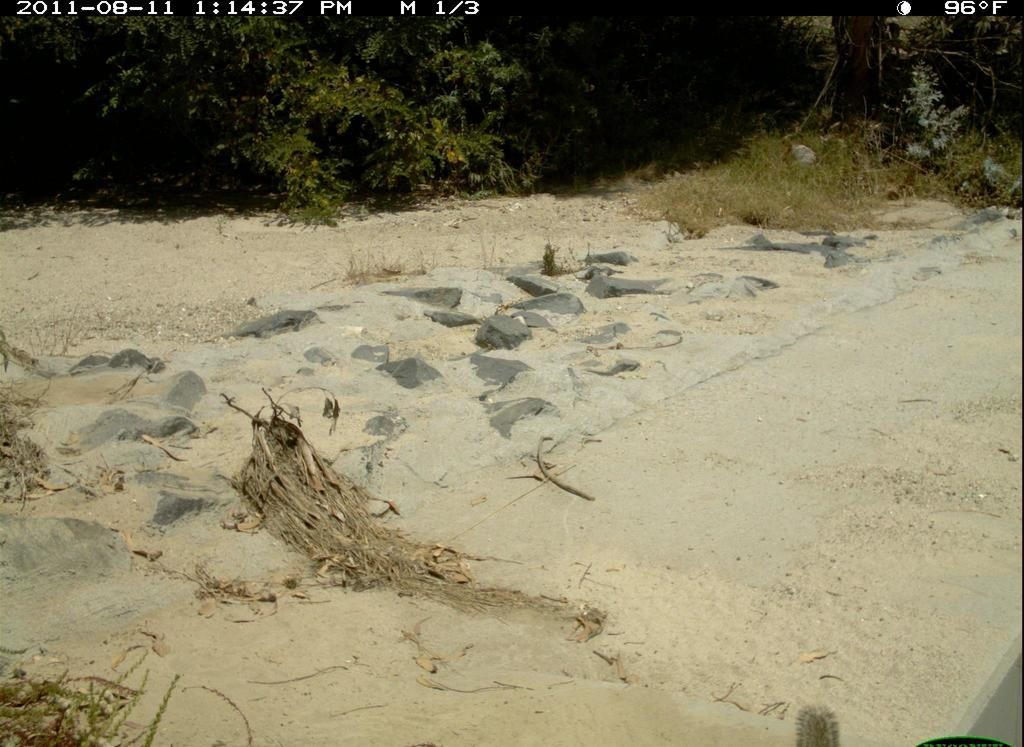squirrel: (789, 690, 856, 747)
